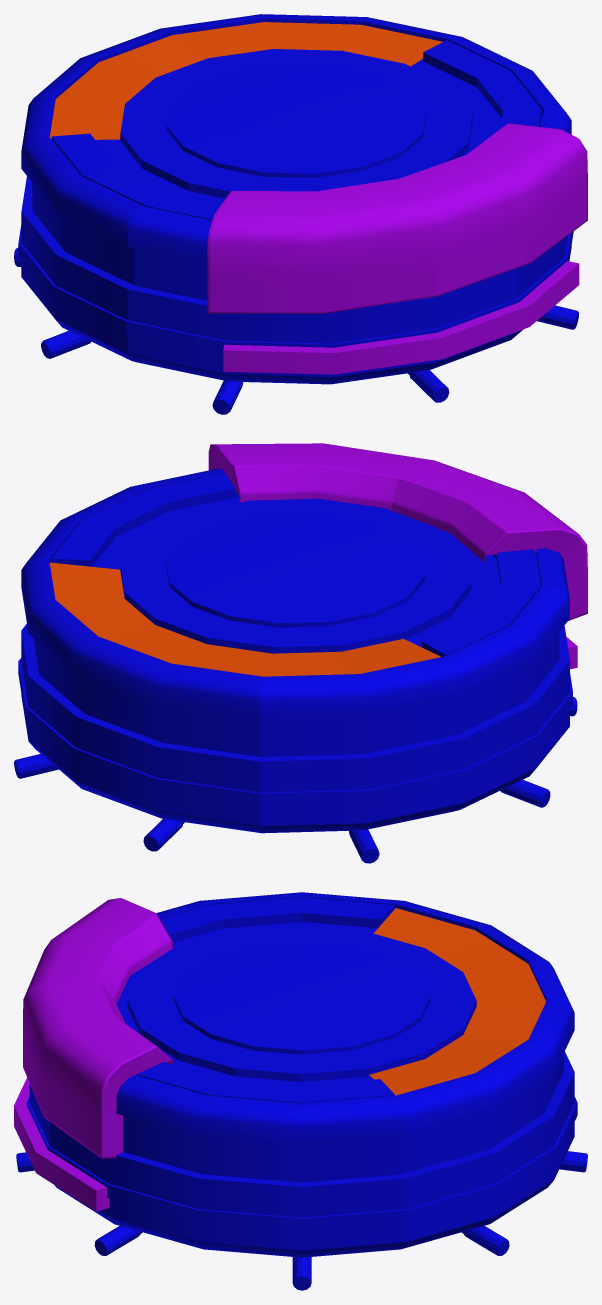
The model's file is Roomba_v1.fbx.
3 renders of one model, top to bottom at view 1: azimuth 30°, elevation 25°; view 2: azimuth 150°, elevation 25°; view 3: azimuth 270°, elevation 25°, orthographic.
Parts seen in each view (by area): view 1: Room_Body, Room_Armor, Room_HP, Room_Legs; view 2: Room_Body, Room_Armor, Room_HP, Room_Legs; view 3: Room_Body, Room_Armor, Room_HP, Room_Legs.
Part boxes in pixels (x1,y1,x2,y2): Room_Body: (18,14,573,384); Room_Armor: (207,123,587,374); Room_HP: (49,22,442,139); Room_Legs: (14,247,578,414); Room_Body: (18,468,572,833); Room_Armor: (208,443,587,669); Room_HP: (49,562,440,676); Room_Legs: (14,696,577,863); Room_Body: (26,892,577,1257); Room_Armor: (14,898,172,1211); Room_HP: (369,908,545,1095); Room_Legs: (16,1151,587,1290).
Size of the model in its own units: 2.1 by 0.7749 by 2.11.
